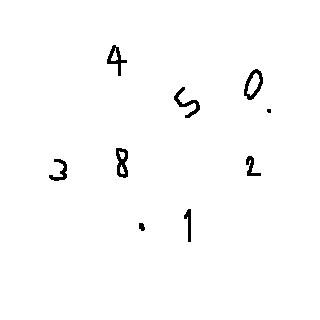.: (133, 217, 153, 235), (262, 105, 273, 120)
0: (232, 58, 274, 103)
1: (174, 202, 203, 253)
2: (238, 154, 270, 181)
3: (40, 154, 76, 189)
4: (103, 39, 133, 82)
5: (168, 78, 213, 131)
8: (109, 142, 138, 180)
